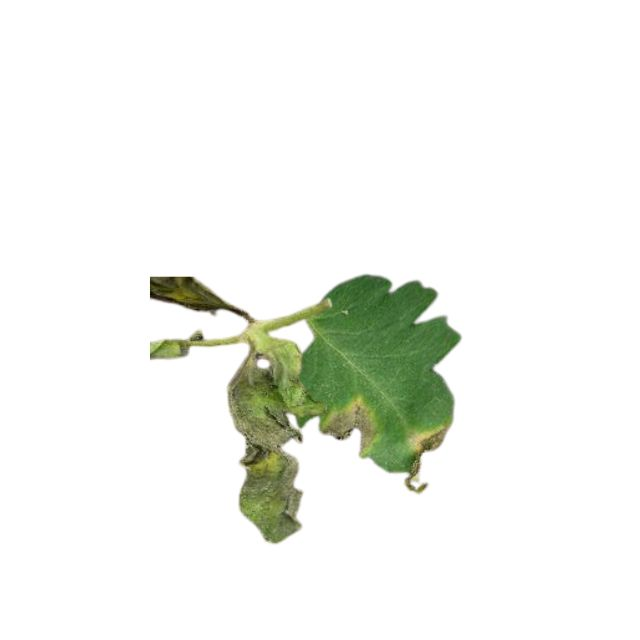Late_blight: (224, 338, 323, 544), (405, 422, 449, 496), (326, 396, 376, 455)
